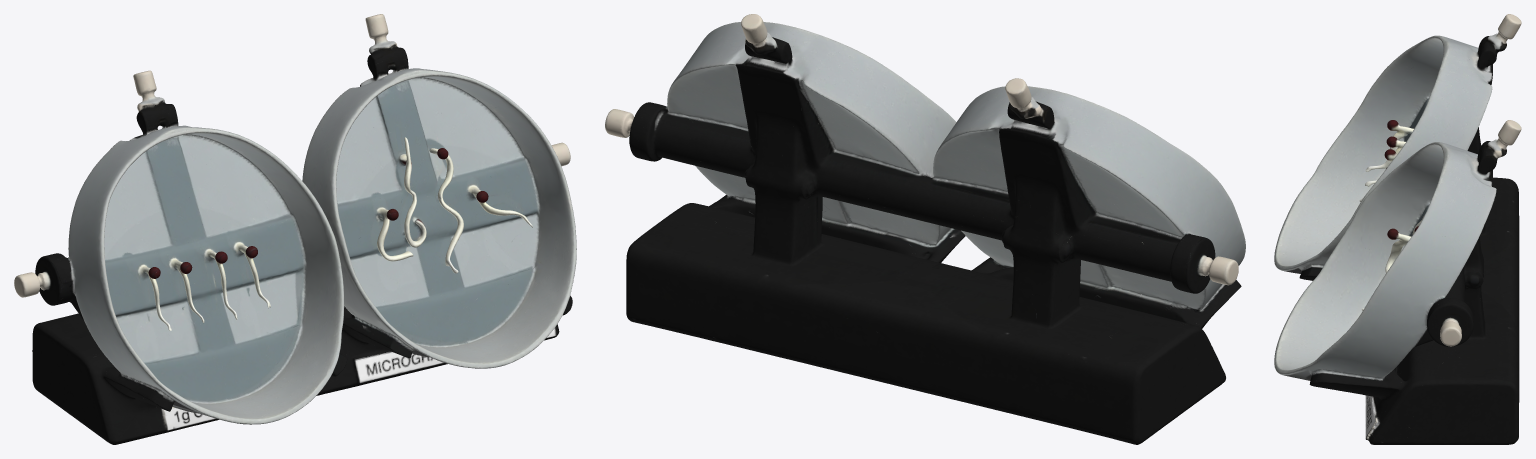
The model's file is seed_1day.glb.
3 renders of one model, left to right at view 1: azimuth 30°, elevation 25°; view 2: azimuth 150°, elevation 25°; view 3: azimuth 270°, elevation 25°, orthographic. The views are drawn at different scales.
Bounding box in the file's own units: 1.9 × 0.9765 × 0.7946.
1 material, 1 textured.
